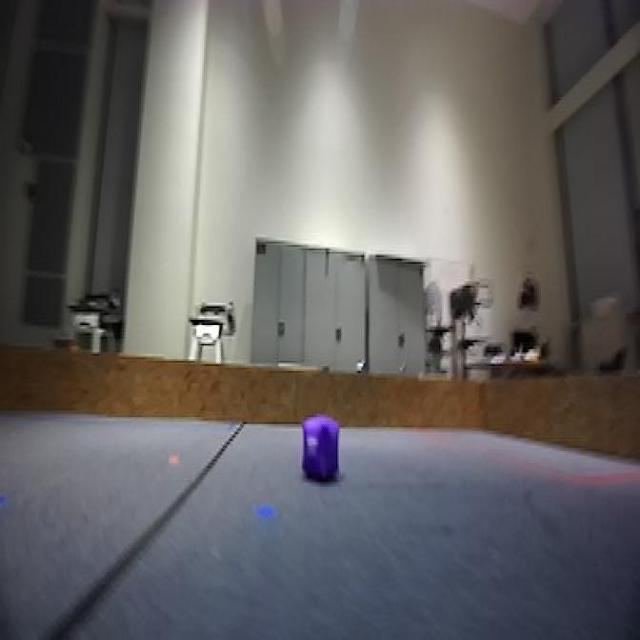frc_cube: (302, 419, 342, 487)
